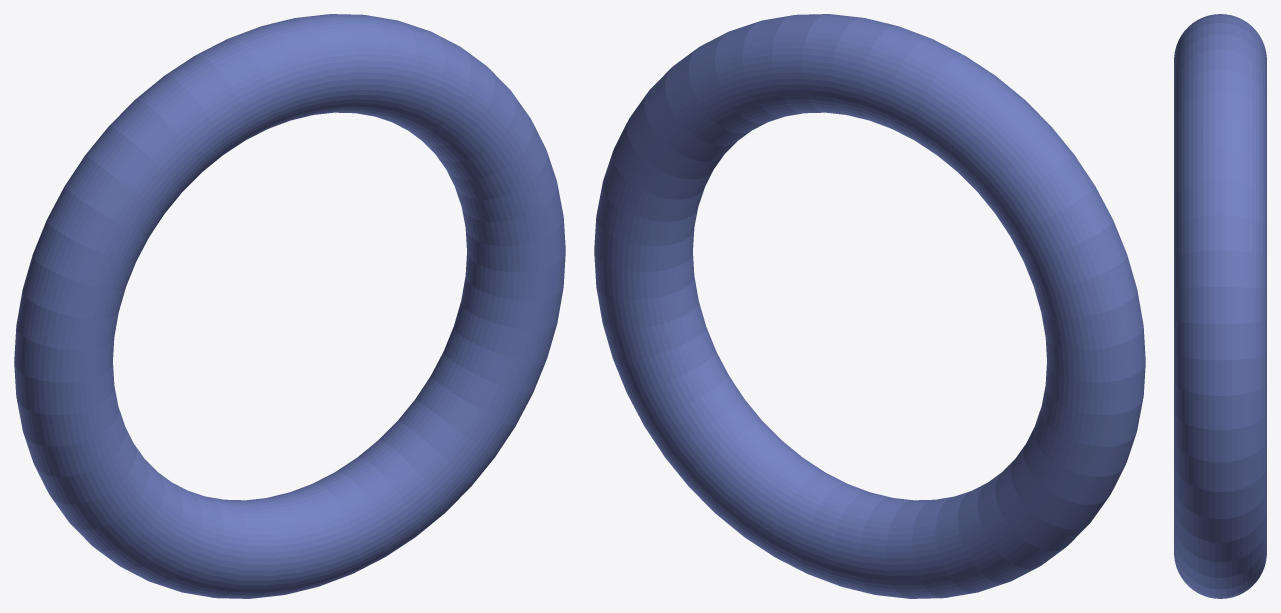
3 renders of one model, left to right at view 1: azimuth 30°, elevation 25°; view 2: azimuth 150°, elevation 25°; view 3: azimuth 270°, elevation 25°, orthographic. The views are drawn at different scales.
Visible parts, largest first — view 1: world; view 2: world; view 3: world.
Part boxes in pixels (x1,y1,x2,y2): world: (14, 14, 565, 598); world: (594, 14, 1145, 598); world: (1174, 14, 1266, 598).
Bounding box in the file's own units: 14.27 × 14.24 × 2.26.
